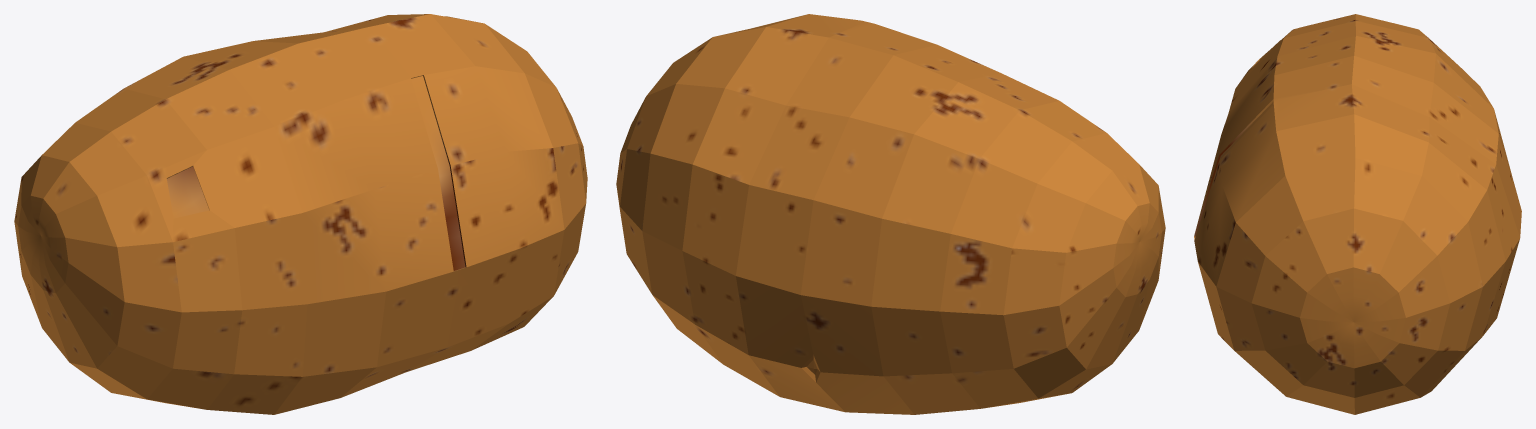
The model's file is SM_Potato_01.fbx.
3 views of the same model, side by side, from view 1: azimuth 30°, elevation 25°; view 2: azimuth 150°, elevation 25°; view 3: azimuth 270°, elevation 25° (orthographic). The views are drawn at different scales.
Visible parts, largest first — view 1: SM_Potato_01; view 2: SM_Potato_01; view 3: SM_Potato_01.
Part boxes in pixels (x1,y1,x2,y2): SM_Potato_01: (14,14,587,414); SM_Potato_01: (616,14,1165,414); SM_Potato_01: (1194,14,1521,414).
Size of the model in its own units: 13.91 by 9.06 by 8.72.
